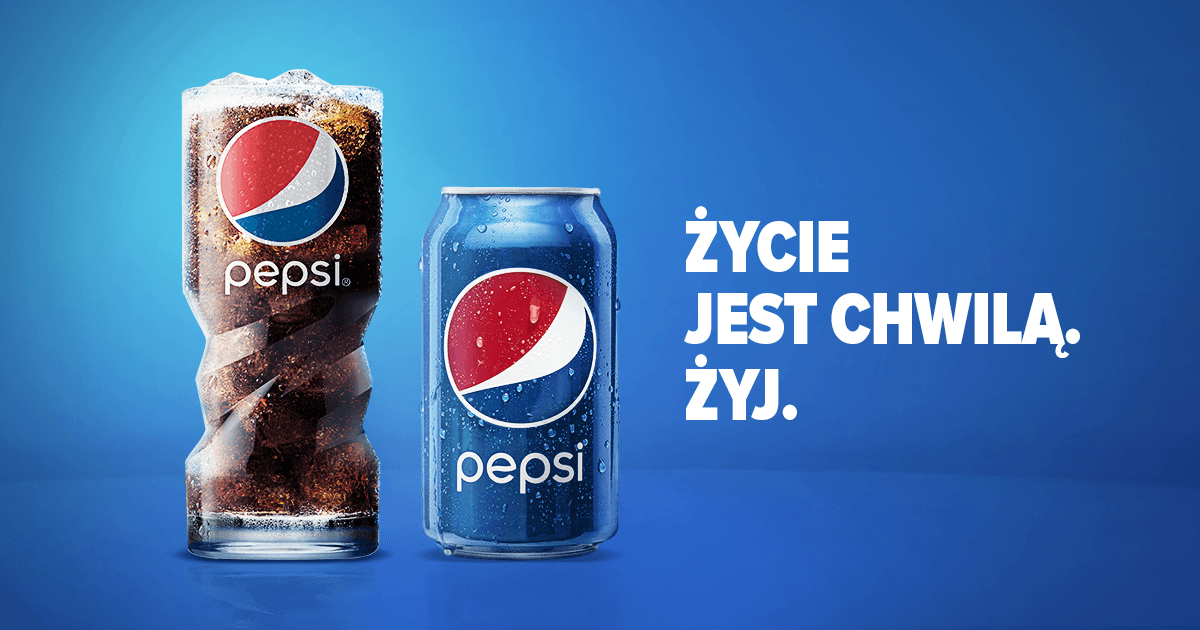pepsi: (446, 270, 598, 424), (217, 115, 348, 241)
